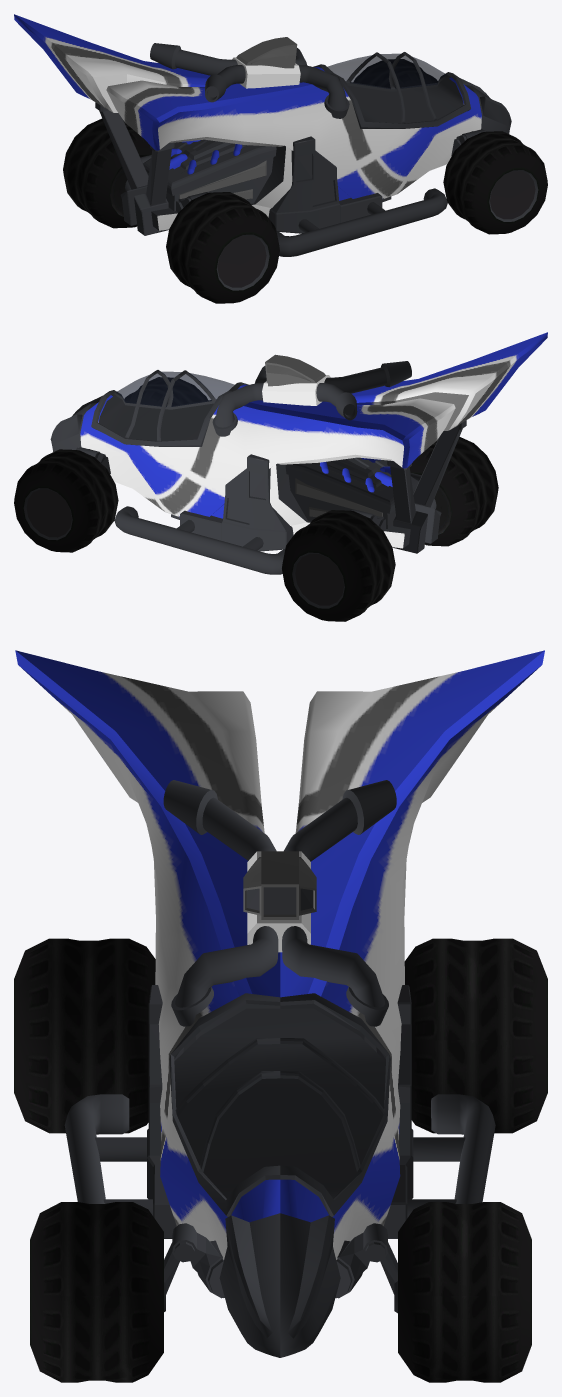
Rendered from aftershock.obj.
The picture shows the model from 3 angles, top to bottom: view 1: azimuth 30°, elevation 25°; view 2: azimuth 150°, elevation 25°; view 3: azimuth 270°, elevation 25°; orthographic projection. The views are drawn at different scales.
Bounding box in the file's own units: 2.22 × 1.07 × 1.3.
3 materials, 2 textured.
